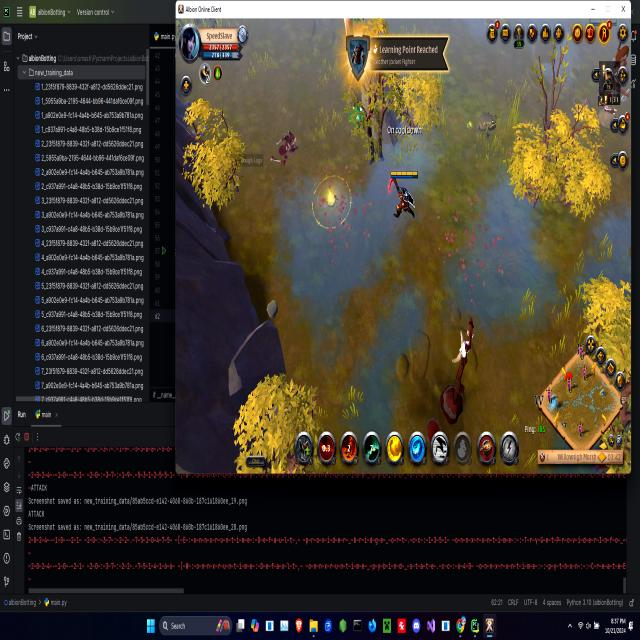hide: (348, 102, 370, 130)
ore: (597, 36, 631, 118), (474, 104, 500, 144)
red: (386, 166, 420, 225), (588, 18, 618, 28)
